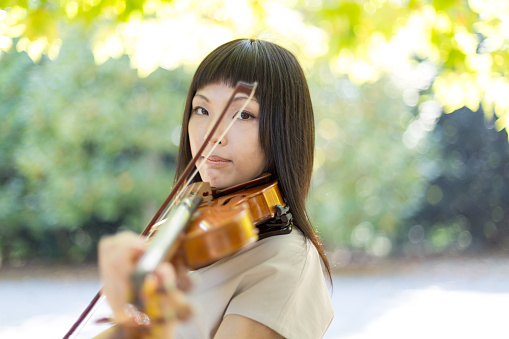em pe: (79, 24, 364, 339)
